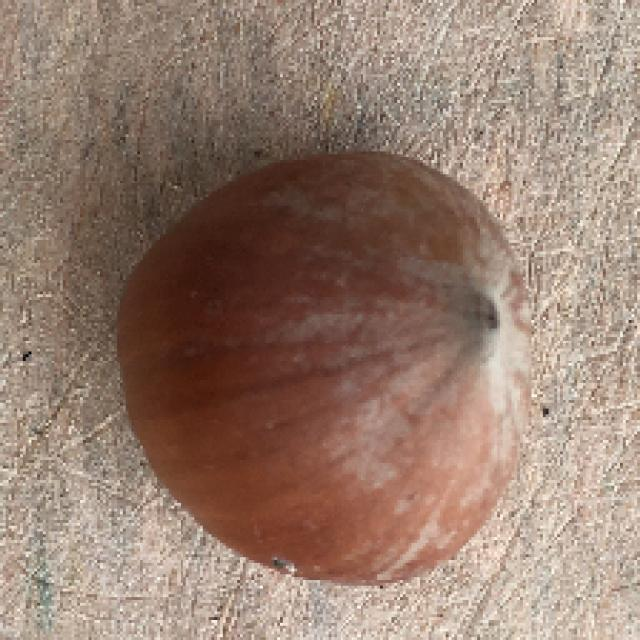qualityHazelnut: (106, 136, 535, 604)
